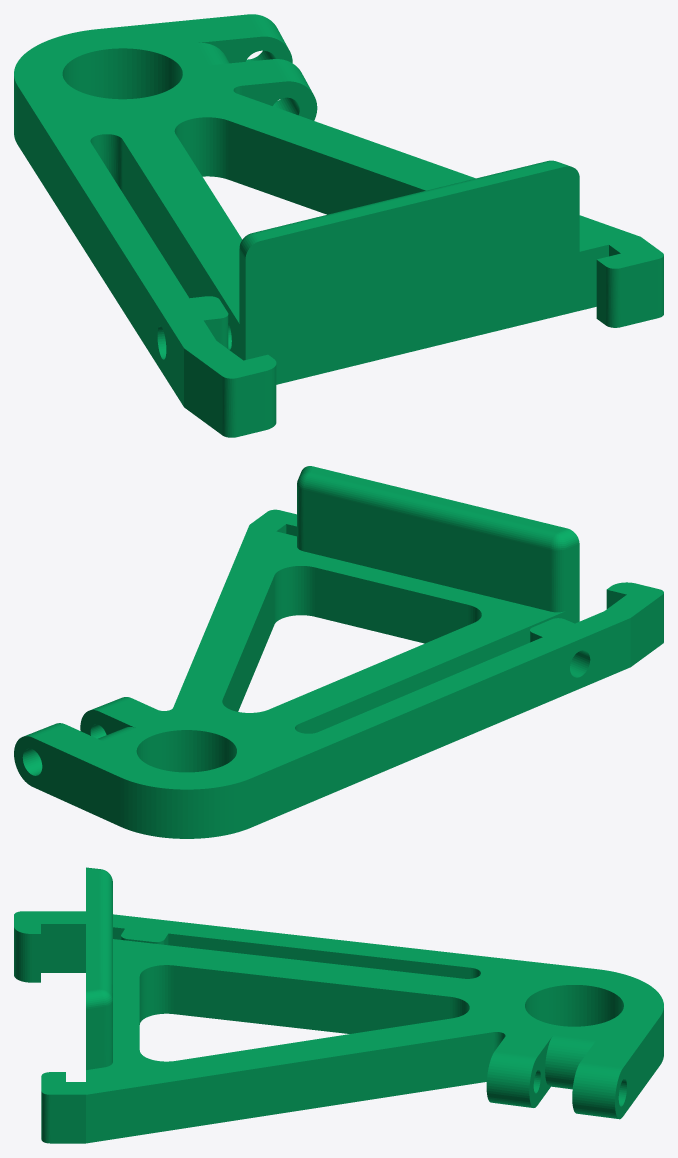
The model's file is Bracket-71.glb.
3 renders of one model, top to bottom at view 1: azimuth 30°, elevation 25°; view 2: azimuth 150°, elevation 25°; view 3: azimuth 270°, elevation 25°, orthographic. The views are drawn at different scales.
Size of the model in its own units: 48.5 by 15 by 72.59.
